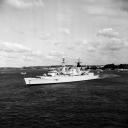Fragata: (24, 55, 101, 87)
